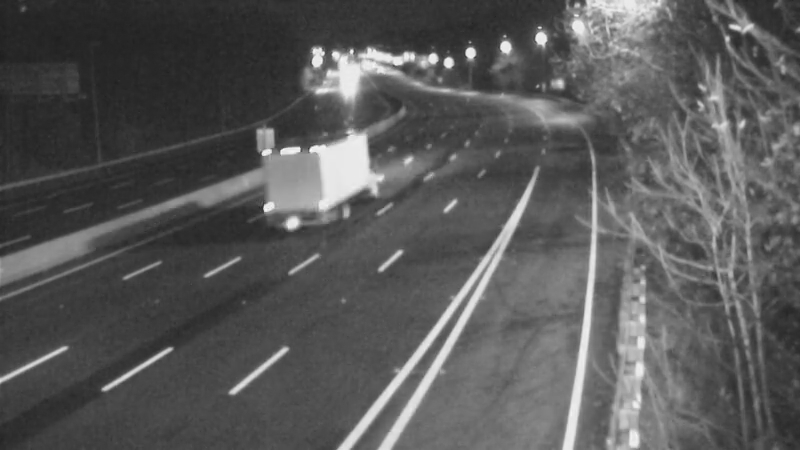vehicle: (269, 139, 349, 219), (321, 51, 371, 101)
